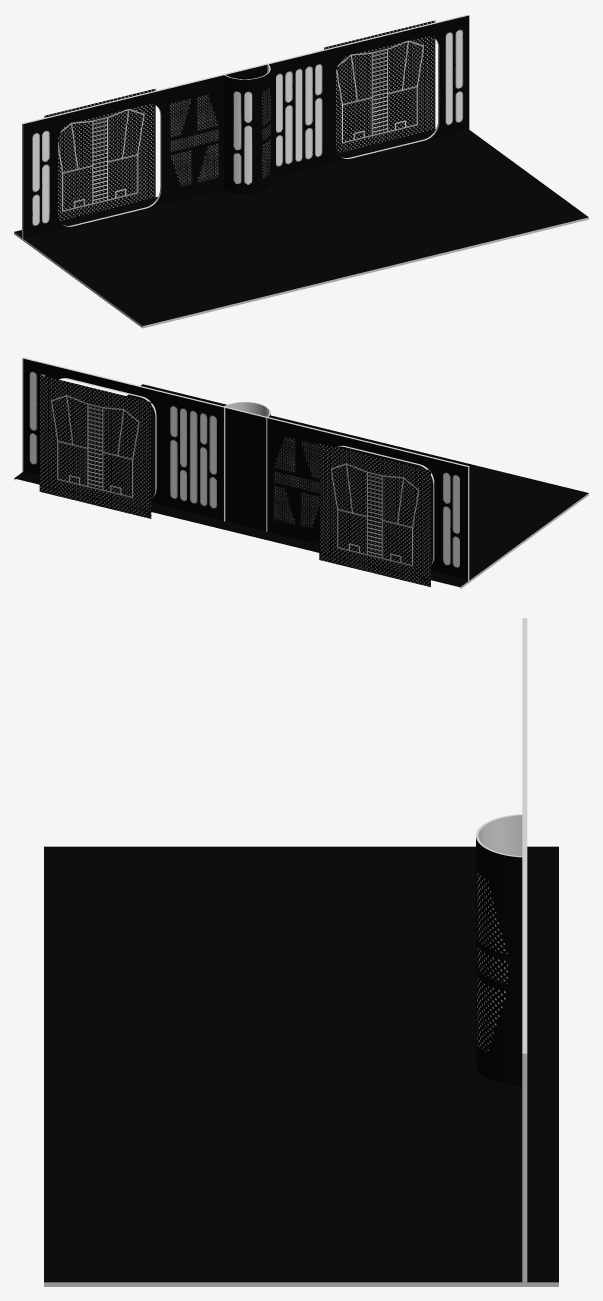
The model's file is BaseSiderale.fbx.
The picture shows the model from 3 angles, top to bottom: view 1: azimuth 30°, elevation 25°; view 2: azimuth 150°, elevation 25°; view 3: azimuth 270°, elevation 25°; orthographic projection. The views are drawn at different scales.
Visible parts, largest first — view 1: pPlane2, pPlane4, pPlane5, pPlane6, pPipe1; view 2: pPlane4, pPlane5, pPlane6, pPlane2, pPipe1; view 3: pPlane2, pPipe1, pPlane4.
Boxes of the visible parts, x1,y1,x2,y2 form: pPlane2: [14, 129, 588, 328]; pPlane4: [22, 14, 469, 238]; pPlane5: [324, 20, 435, 153]; pPlane6: [44, 88, 155, 220]; pPipe1: [223, 63, 270, 193]; pPlane4: [22, 357, 469, 581]; pPlane5: [39, 375, 151, 518]; pPlane6: [319, 443, 430, 586]; pPlane2: [14, 384, 588, 589]; pPipe1: [222, 402, 270, 531]; pPlane2: [44, 846, 558, 1286]; pPipe1: [476, 814, 527, 1085]; pPlane4: [522, 618, 527, 1286].
Size of the model in its own units: 20 by 5.22 by 10.
